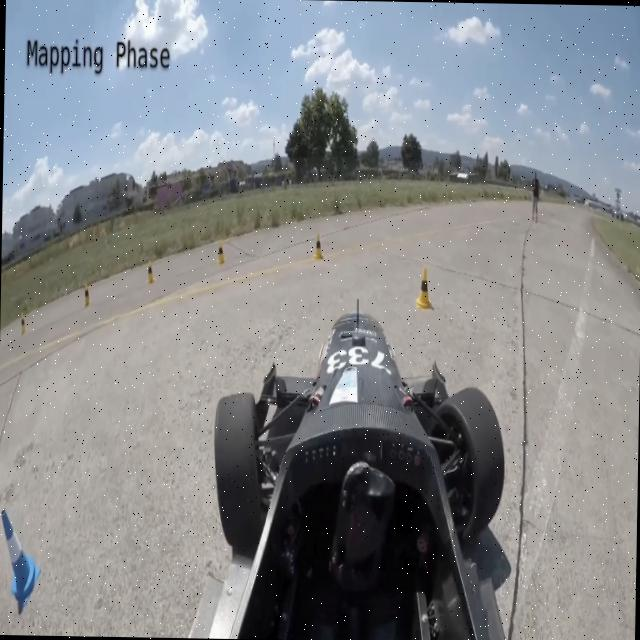blue_cone: (0, 507, 42, 607)
yellow_cone: (415, 266, 433, 310), (312, 231, 324, 260), (217, 240, 225, 264), (84, 284, 92, 306), (147, 262, 155, 284), (20, 312, 27, 336)
